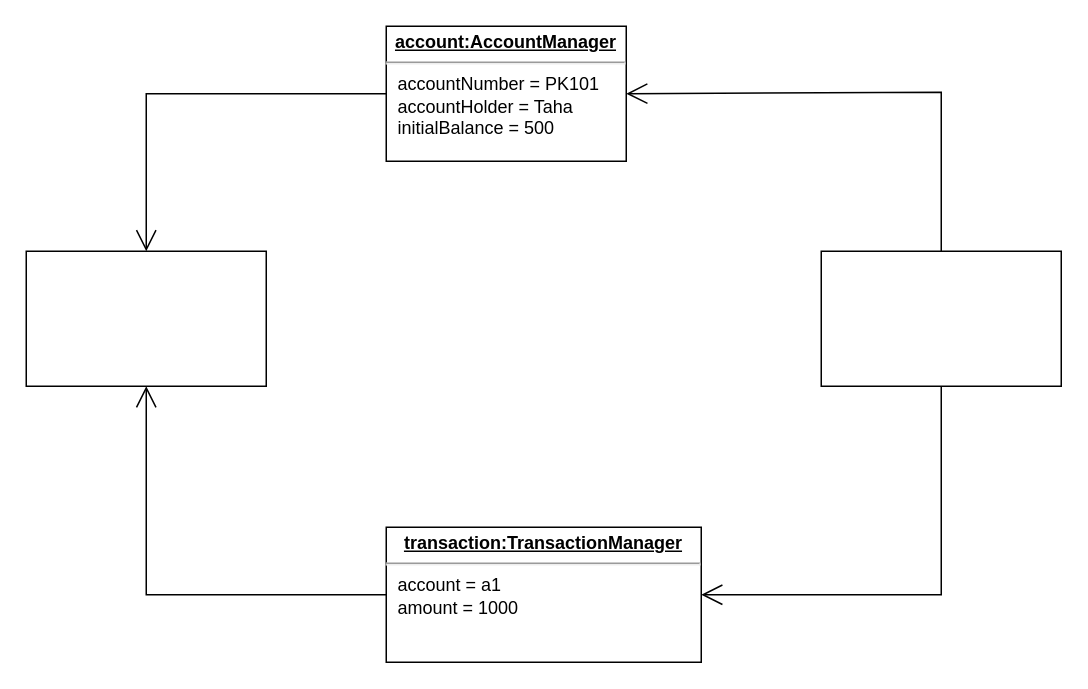
Image size: 1088x689. Some labels were removed from this diagram. The box of each missing label's shape, as (x1, y1, x2, y2) in pixels:
a1:BankAccount accountNumber = PK101 accountHolder = Taha balance = 1500: (25, 250, 266, 386)
b1:BankingApp bankAccount = account: (820, 250, 1061, 386)
